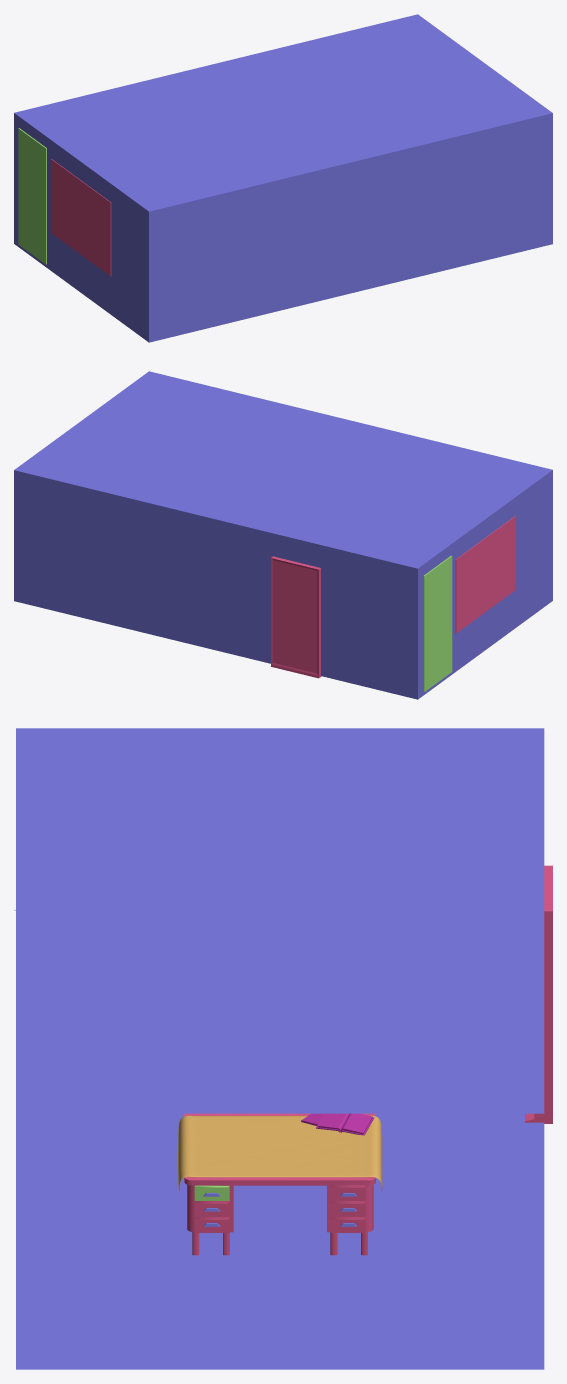
The model's file is tarot card reader room 15 (1).fbx.
The picture shows the model from 3 angles, top to bottom: view 1: azimuth 30°, elevation 25°; view 2: azimuth 150°, elevation 25°; view 3: azimuth 270°, elevation 25°; orthographic projection. The views are drawn at different scales.
Parts seen in each view (by area): view 1: Wall, Window, book shelf; view 2: Wall, Door, Window, book shelf; view 3: Wall, Table cloth, Desk, Door, prop_books_04_inst_001.
Boxes of the visible parts, left/top/right/bottom form: Wall: left=14, top=14, right=552, bottom=342; Window: left=51, top=159, right=111, bottom=276; book shelf: left=18, top=128, right=46, bottom=264; Wall: left=14, top=371, right=552, bottom=699; Door: left=271, top=556, right=321, bottom=678; Window: left=455, top=516, right=515, bottom=633; book shelf: left=423, top=555, right=452, bottom=692; Wall: left=16, top=728, right=544, bottom=1369; Table cloth: left=178, top=1115, right=382, bottom=1191; Desk: left=184, top=1113, right=375, bottom=1232; Door: left=525, top=865, right=552, bottom=1123; prop_books_04_inst_001: left=301, top=1113, right=374, bottom=1135.
Bounding box in the file's own units: 2005 × 623 × 1182.
